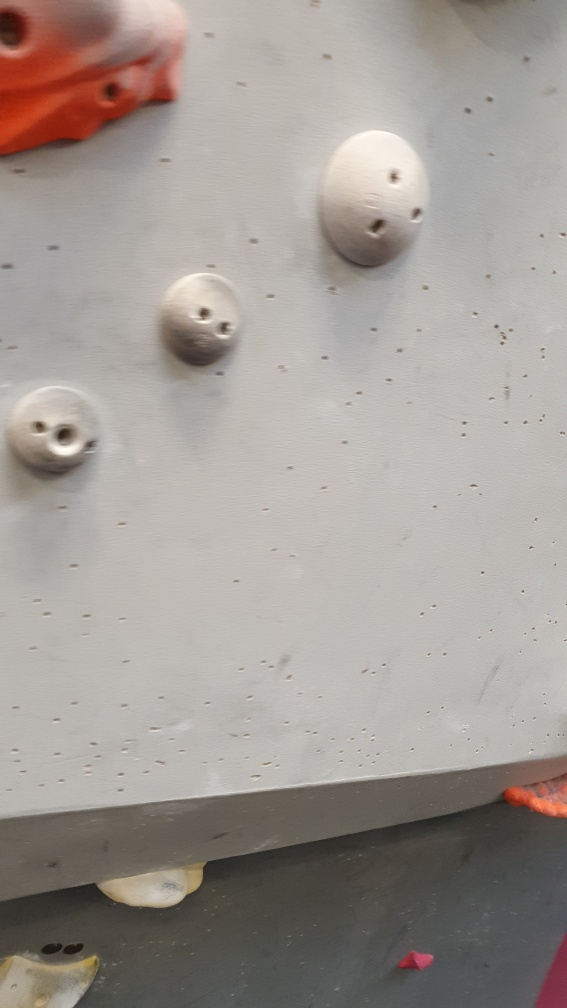Hand Start: (41, 937, 63, 960), (63, 938, 87, 957)
Jug: (500, 762, 567, 822)
Sloper: (315, 128, 430, 275), (9, 382, 110, 479), (156, 269, 245, 371)
